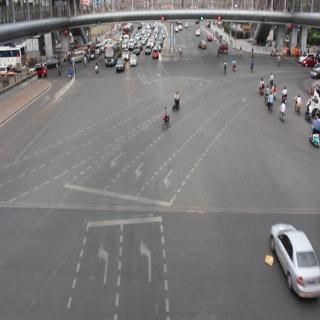BigCar: (104, 43, 116, 67)
Car: (268, 222, 320, 300), (45, 54, 61, 69), (73, 50, 86, 63), (301, 56, 315, 68), (197, 38, 208, 53), (130, 52, 137, 65), (144, 46, 152, 57), (152, 47, 158, 61), (117, 60, 124, 68)
